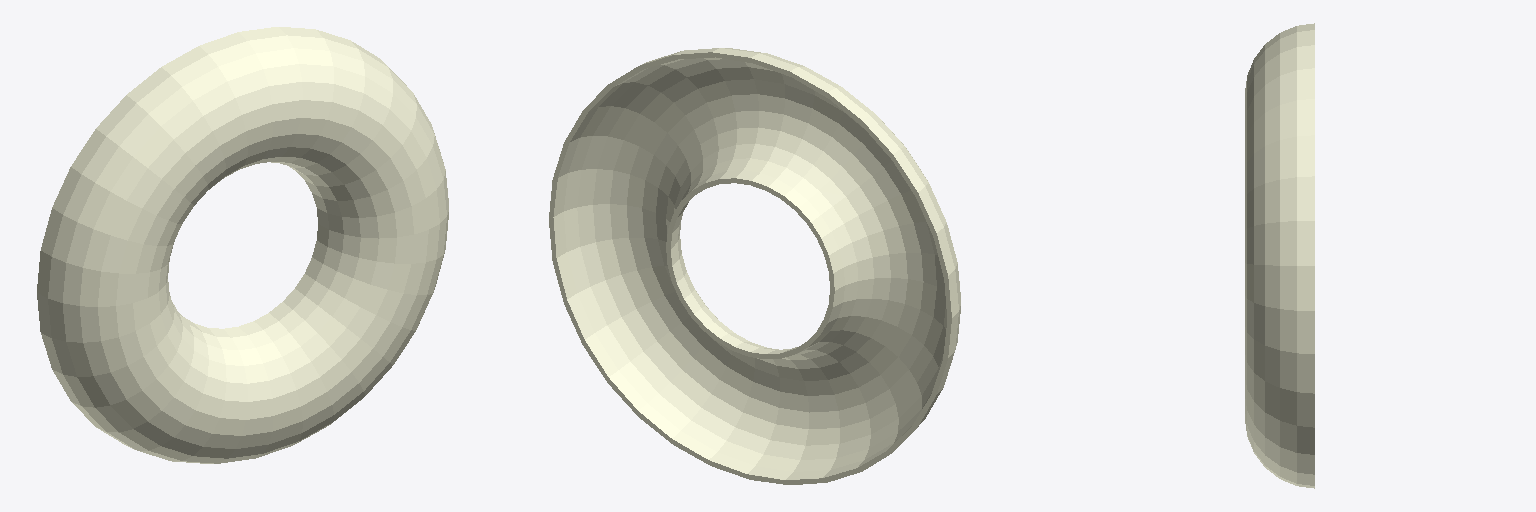
The model's file is section_027.obj.
The picture shows the model from 3 angles: view 1: azimuth 30°, elevation 25°; view 2: azimuth 150°, elevation 25°; view 3: azimuth 270°, elevation 25°; orthographic projection.
Bounding box in the file's own units: 86 × 86 × 13.